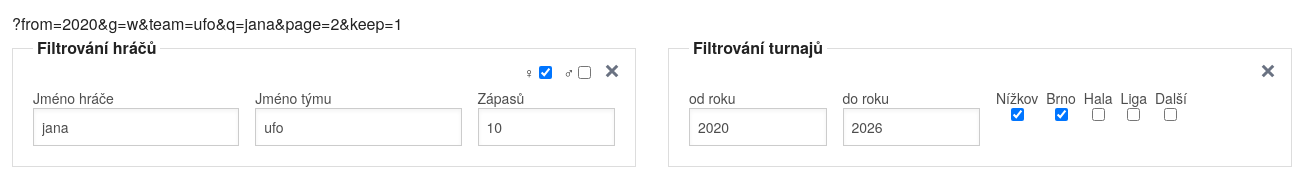
Scenario: player reset clears player params, name search and page
Click the button named "Zrušit filtrování hráčů". click: (612, 71)
box: [601, 60, 623, 82]
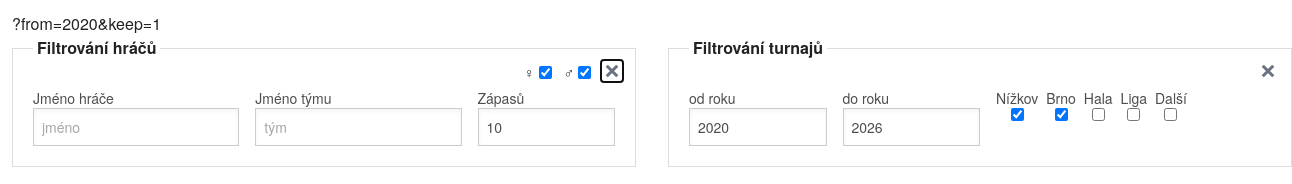
Result: the text with test id "search" reads "?from=2020&keep=1" at [12, 12, 161, 35]
